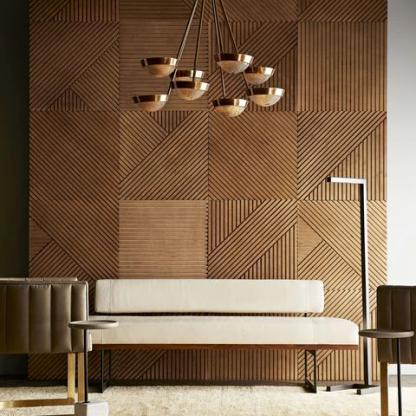Wall Panel: (0, 2, 388, 386)
